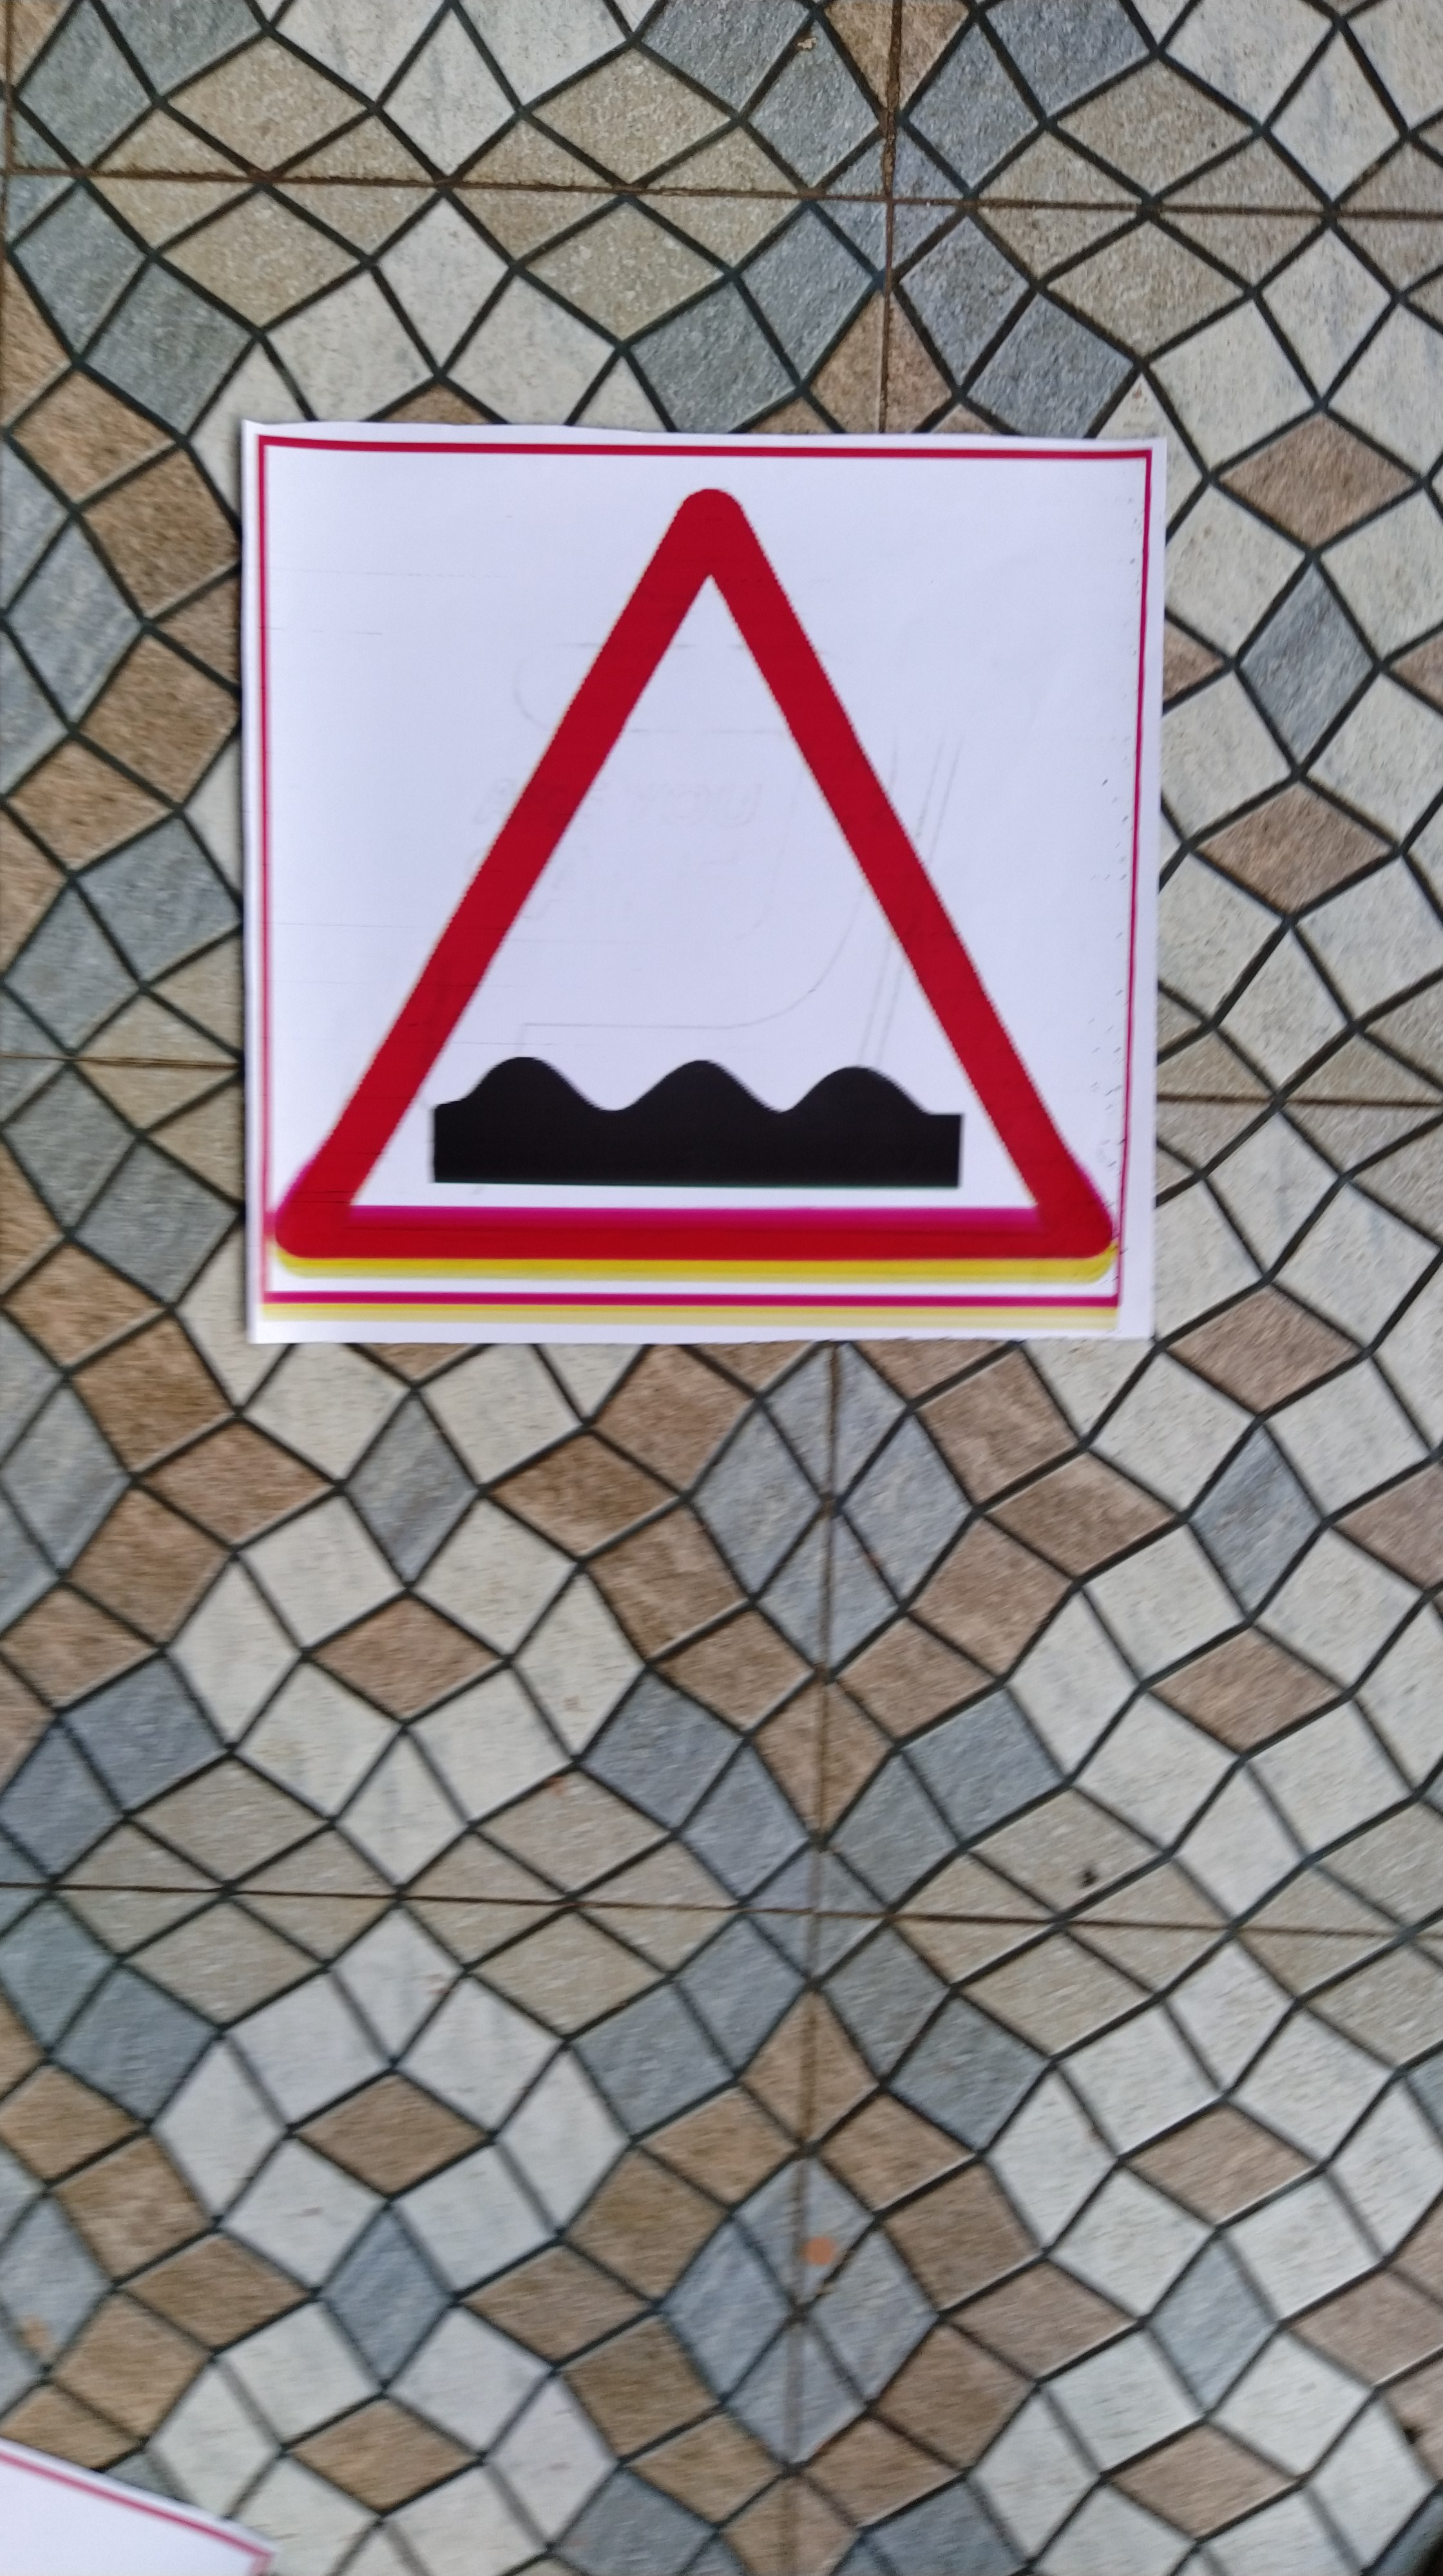speed breaker: (248, 421, 1138, 1334)
